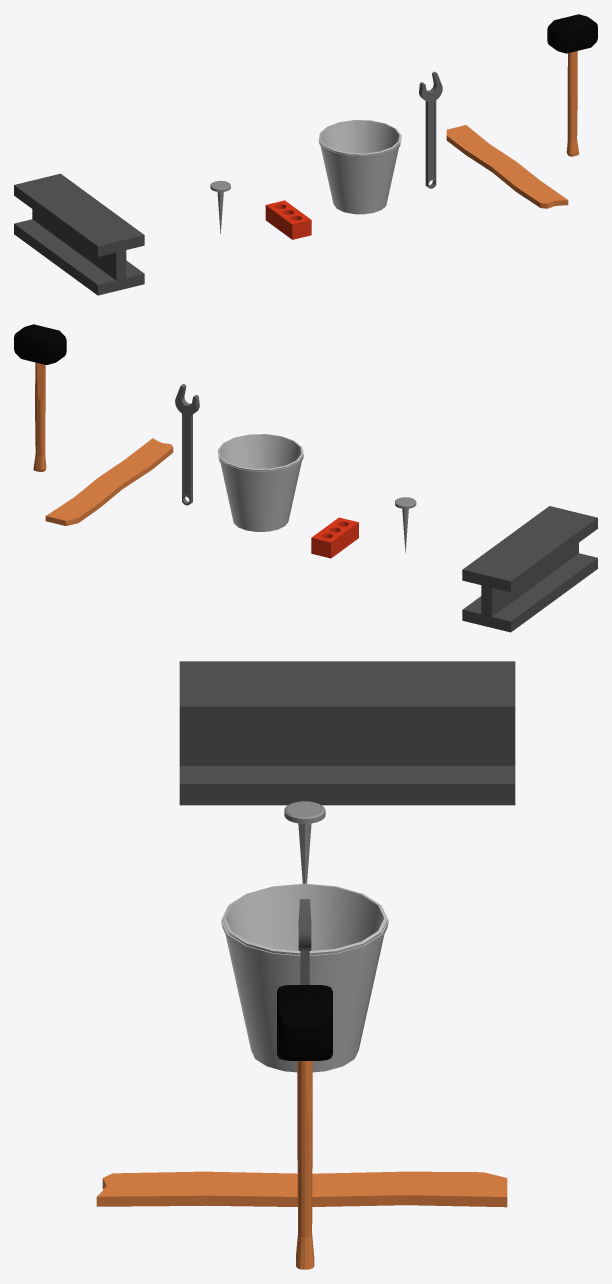
File: Steel.fbx
3 renders of one model, top to bottom at view 1: azimuth 30°, elevation 25°; view 2: azimuth 150°, elevation 25°; view 3: azimuth 270°, elevation 25°, orthographic. The views are drawn at different scales.
Parts seen in each view (by area): view 1: Cube.002, Cylinder, Plank, Cube.001, Cube, Brick; view 2: Cube.002, Cylinder, Plank, Cube.001, Cube, Brick; view 3: Cube.002, Cylinder, Plank, Cube.001, Cone, Cube.
Boxes of the visible parts, bbox=[...] form: Cube.002: bbox=[14, 173, 144, 295]; Cylinder: bbox=[318, 120, 401, 214]; Plank: bbox=[446, 125, 568, 208]; Cube.001: bbox=[547, 14, 597, 156]; Cube: bbox=[419, 71, 442, 188]; Brick: bbox=[265, 200, 311, 239]; Cube.002: bbox=[462, 506, 597, 632]; Cylinder: bbox=[217, 434, 303, 531]; Plank: bbox=[45, 438, 173, 525]; Cube.001: bbox=[14, 324, 66, 471]; Cube: bbox=[175, 384, 199, 505]; Brick: bbox=[311, 517, 358, 558]; Cube.002: bbox=[179, 661, 515, 805]; Cylinder: bbox=[221, 883, 388, 1072]; Plank: bbox=[96, 1171, 507, 1207]; Cube.001: bbox=[277, 985, 332, 1269]; Cone: bbox=[284, 801, 325, 883]; Cube: bbox=[298, 899, 311, 984].
Bounding box in the file's own units: 2258 × 562 × 777.
